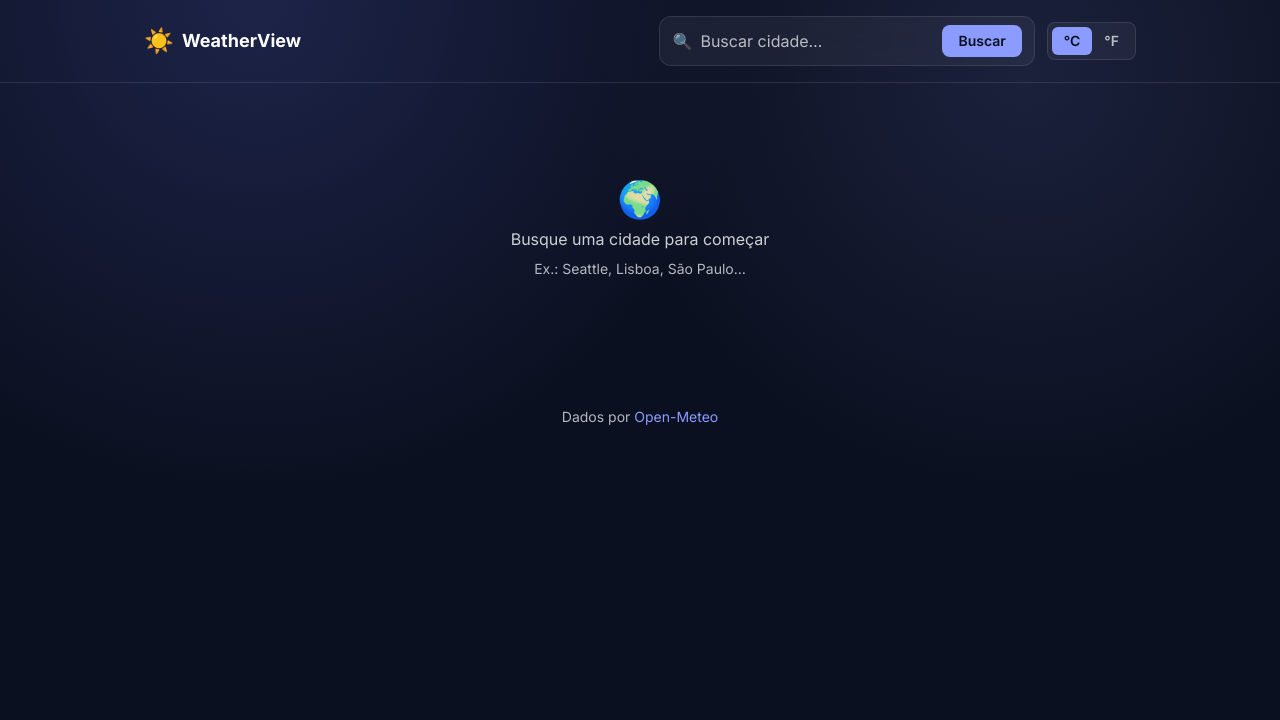
Scenario: App › aguarda a seleção da localidade antes de carregar o clima
Type "Lisboa" into the field labelled "Buscar cidade…" at (817, 41), box [700,29,934,53]
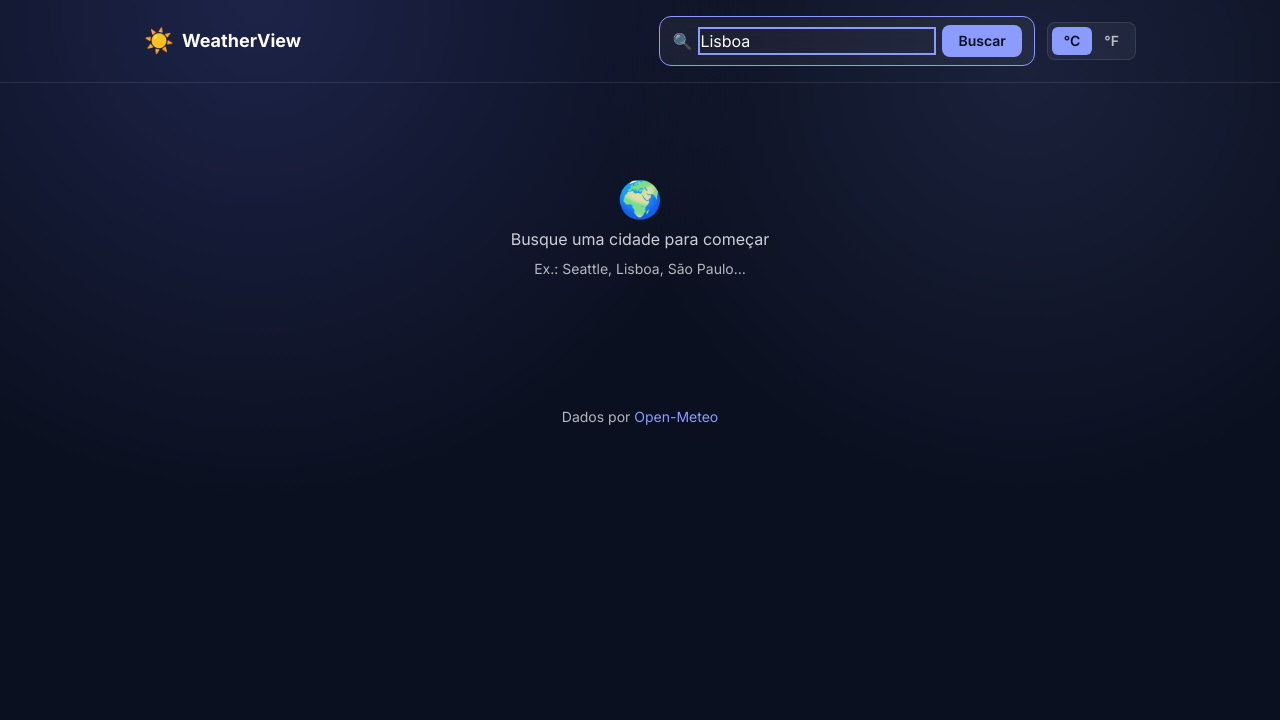
Click the button "Buscar" at (982, 41), box [942,25,1022,57]
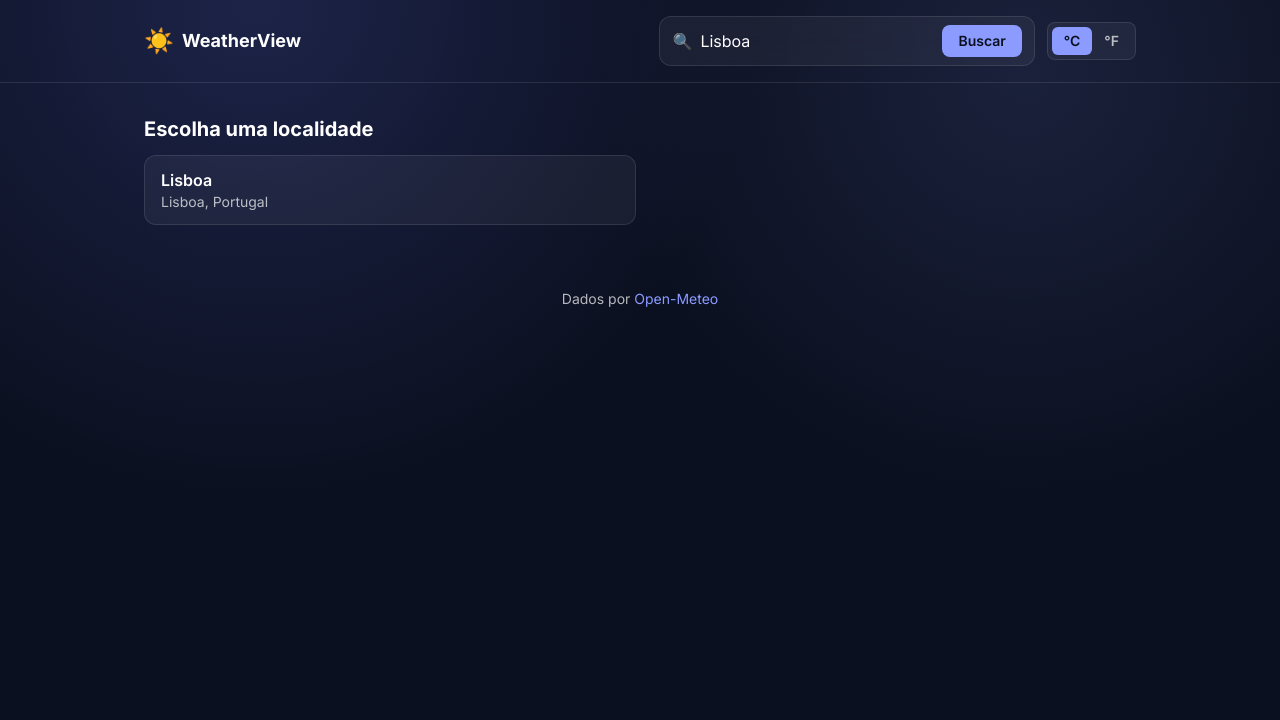
Result: the heading "Escolha uma localidade" is shown at [144,117,374,141]
Click the button "Lisboa Lisboa, Portugal" at (187, 180), box [144,155,636,225]
(page scrolled)
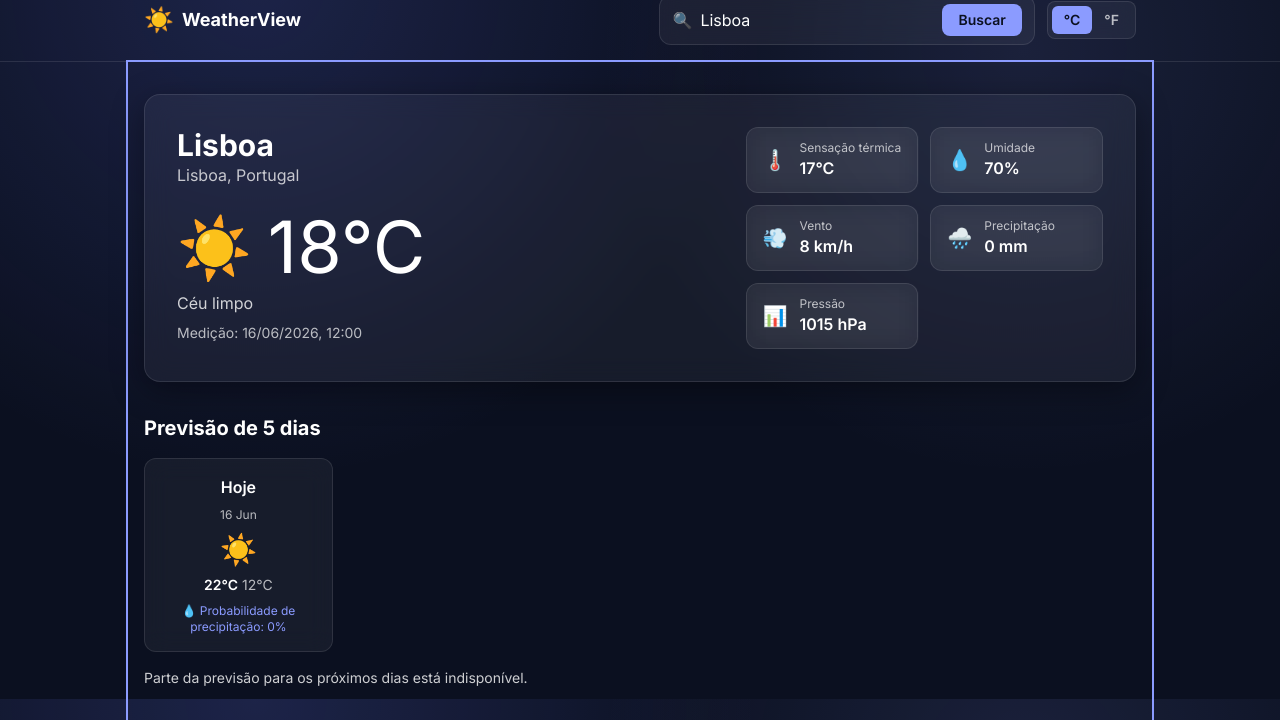
Result: the heading "Lisboa" is shown at [177,127,274,163]
Result: the element named "clima atual" is shown at [144,94,1136,382]
Result: the element "Previsão de 5 dias" is shown at [144,416,528,686]
